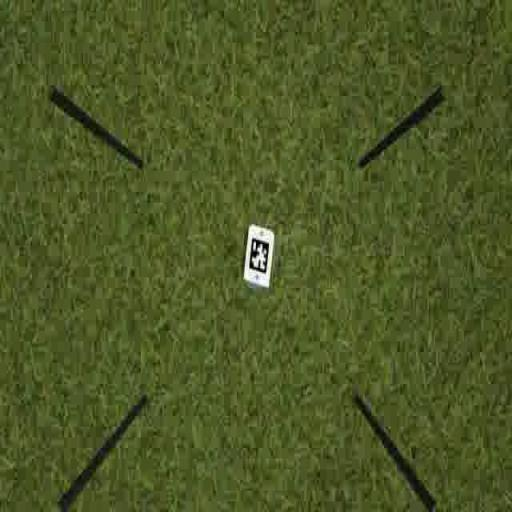UGV: (242, 224, 276, 293)
